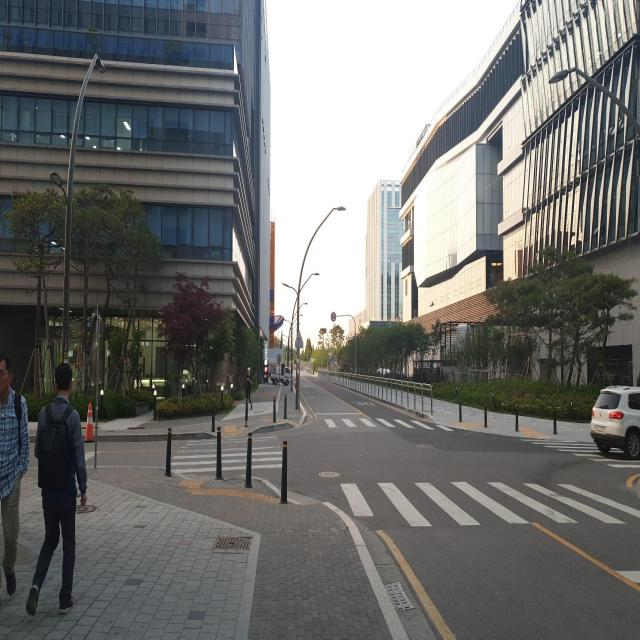횡단보도: (350, 478, 570, 532), (526, 433, 640, 479), (170, 437, 283, 473), (318, 412, 460, 434)
